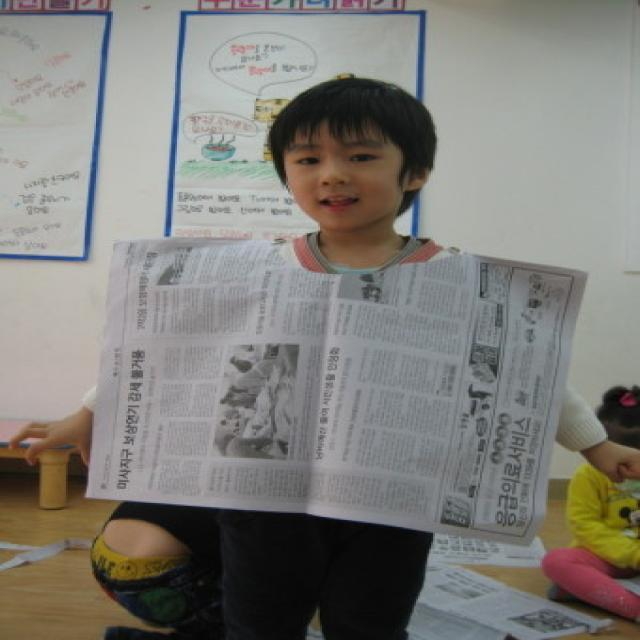Newspaper: (88, 234, 590, 551)
